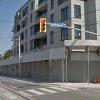Crosswalk: (10, 74, 91, 99)
